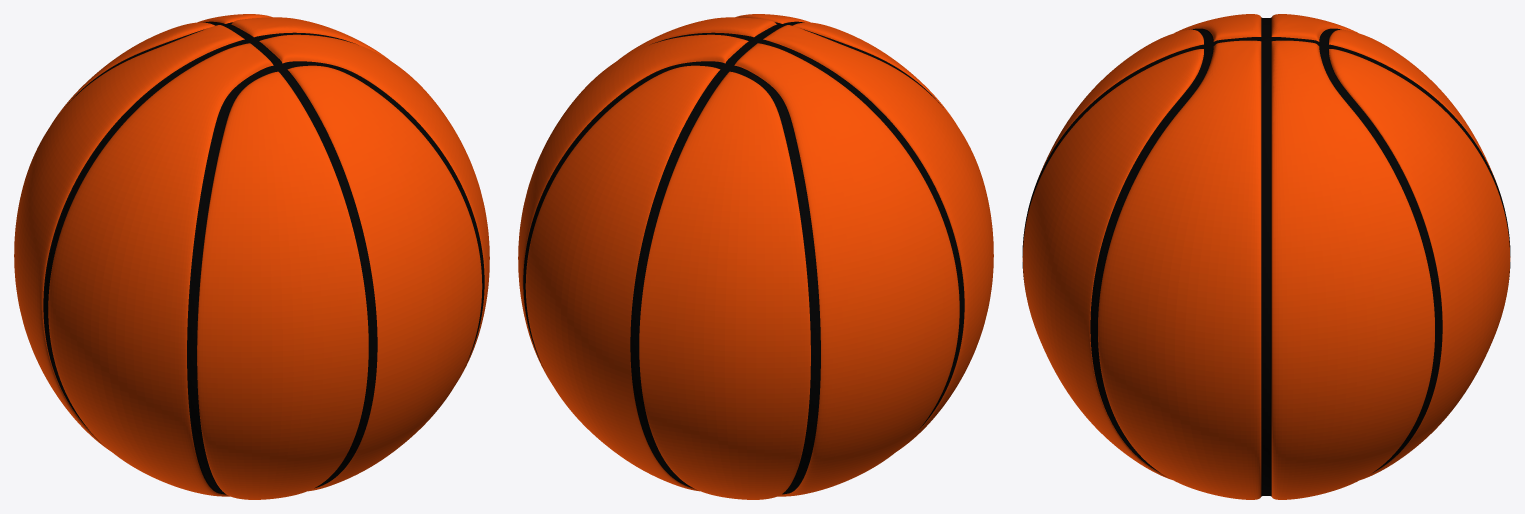
The model's file is basketball_in_fbx_format.glb.
3 renders of one model, left to right at view 1: azimuth 30°, elevation 25°; view 2: azimuth 150°, elevation 25°; view 3: azimuth 270°, elevation 25°, orthographic.
Visible parts, largest first — view 1: basketball_orange; view 2: basketball_orange; view 3: basketball_orange.
Boxes of the visible parts, x1=… form: basketball_orange: x1=14, y1=14, x2=489, y2=499; basketball_orange: x1=518, y1=14, x2=993, y2=499; basketball_orange: x1=1022, y1=14, x2=1510, y2=499.
Bounding box in the file's own units: 1.95 × 1.98 × 1.98.
